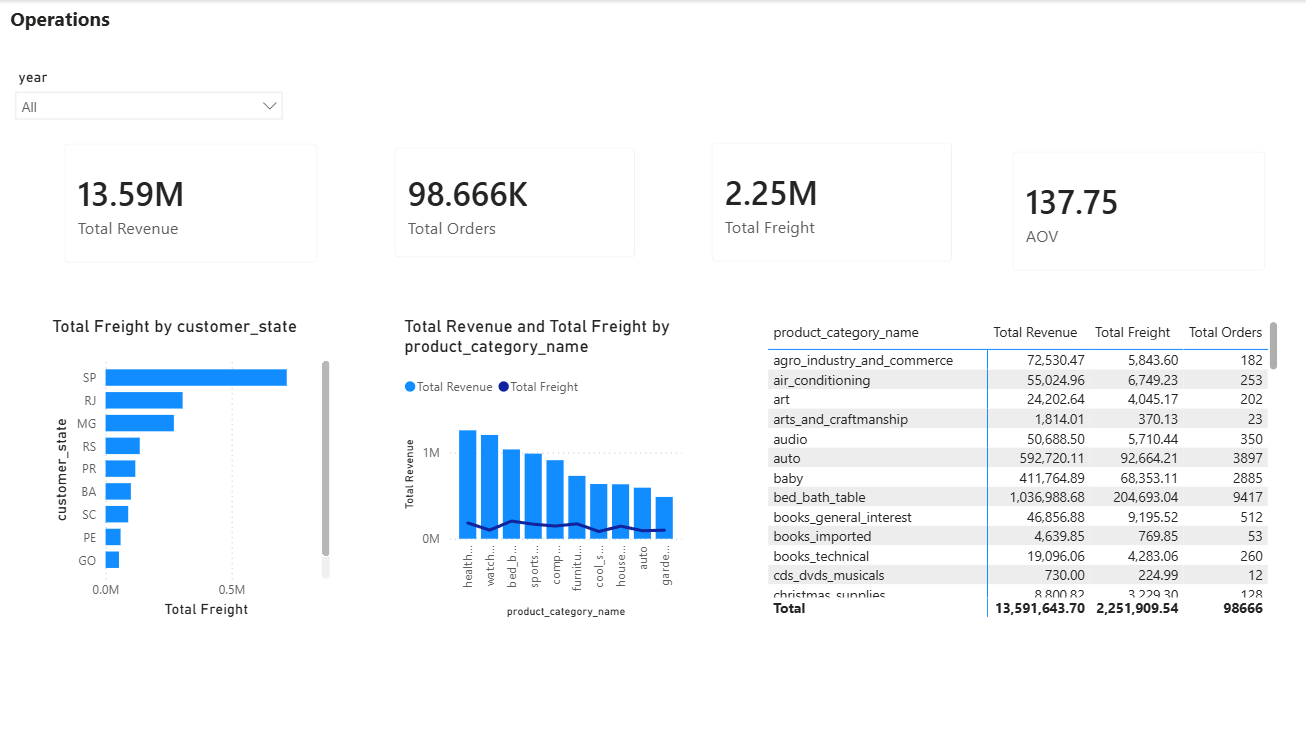

Layout of this report page (visuals, bound fields, positions):
{"tool":"powerbi","page":{"name":"Operations","canvas":[1280,720],"ordinal":3},"visuals":[{"type":"textbox","box":[9.7,0,280.1,53.5],"z":0},{"type":"slicer","fields":{"Values":["public dim_date.year"]},"box":[9.7,61.3,280.1,69.1],"z":1000},{"type":"cardVisual","fields":{"Data":["public fact_orders.Total Revenue"]},"box":[50.6,122.6,280,150],"z":2000},{"type":"cardVisual","fields":{"Data":["public fact_orders.Total Orders"]},"box":[371.6,126.4,268.4,141],"z":3000},{"type":"cardVisual","fields":{"Data":["public fact_orders.AOV"]},"box":[972.6,130.3,280,150],"z":4000},{"type":"cardVisual","fields":{"Data":["public fact_orders.Total Freight"]},"box":[679.9,122,268.4,150],"z":5000},{"type":"clusteredBarChart","fields":{"Category":["public dim_customer.customer_state"],"Y":["public fact_orders.Total Freight"]},"box":[50.6,307.4,280.1,297.6],"z":6000},{"type":"lineClusteredColumnComboChart","fields":{"Category":["public dim_product.product_category_name"],"Y":["public fact_orders.Total Revenue"],"Y2":["public fact_orders.Total Freight"]},"box":[392.9,307.4,280.1,297.6],"z":7000},{"type":"pivotTable","fields":{"Rows":["public dim_product.product_category_name"],"Values":["public fact_orders.Total Revenue","public fact_orders.Total Freight","public fact_orders.Total Orders"]},"box":[747,307.4,505.8,297.6],"z":8000}]}

Visuals, with their boxes in screenshot pixels (x1, y1, x2, y2), scaled from the page's 1280x720 canvas onto the 1306x731 screenshot:
textbox: left=10, top=0, right=296, bottom=54
slicer - public dim_date.year: left=10, top=62, right=296, bottom=132
cardVisual - public fact_orders.Total Revenue: left=52, top=124, right=337, bottom=277
cardVisual - public fact_orders.Total Orders: left=379, top=128, right=653, bottom=271
cardVisual - public fact_orders.AOV: left=992, top=132, right=1278, bottom=285
cardVisual - public fact_orders.Total Freight: left=694, top=124, right=968, bottom=276
clusteredBarChart - public dim_customer.customer_state x public fact_orders.Total Freight: left=52, top=312, right=337, bottom=614
lineClusteredColumnComboChart - public dim_product.product_category_name x public fact_orders.Total Revenue: left=401, top=312, right=687, bottom=614
pivotTable - public dim_product.product_category_name x public fact_orders.Total Revenue: left=762, top=312, right=1278, bottom=614
